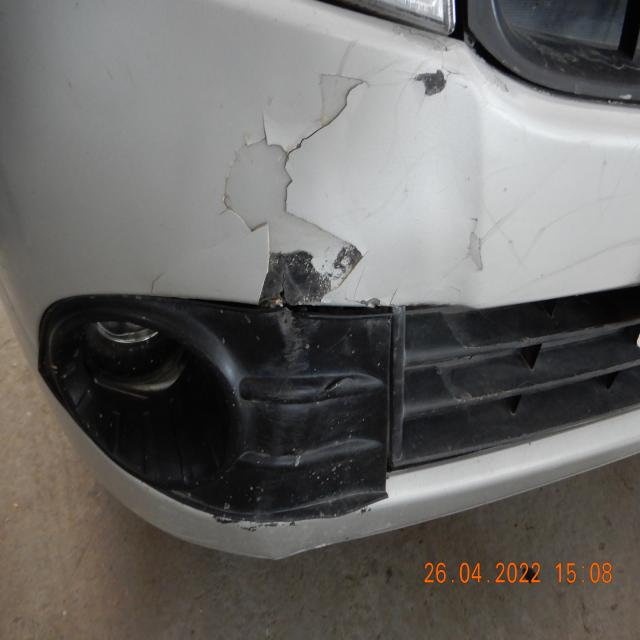damage: (218, 66, 372, 308), (275, 310, 315, 367), (408, 61, 457, 98), (462, 215, 486, 278)
